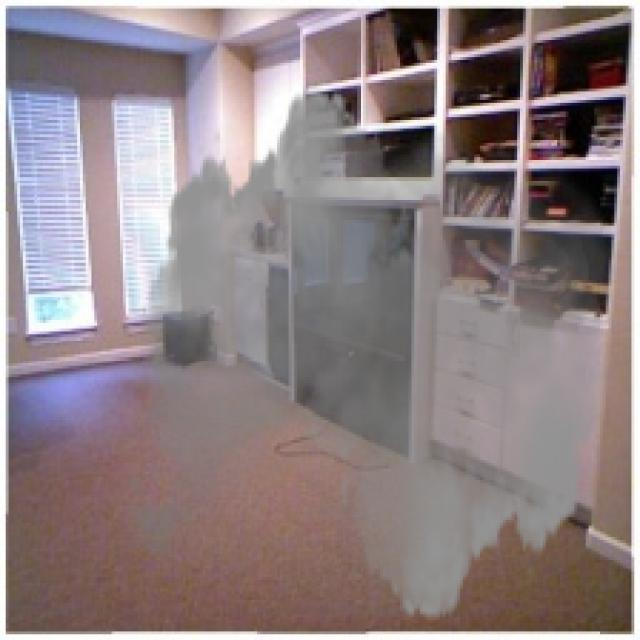smoke: (106, 72, 628, 637)
